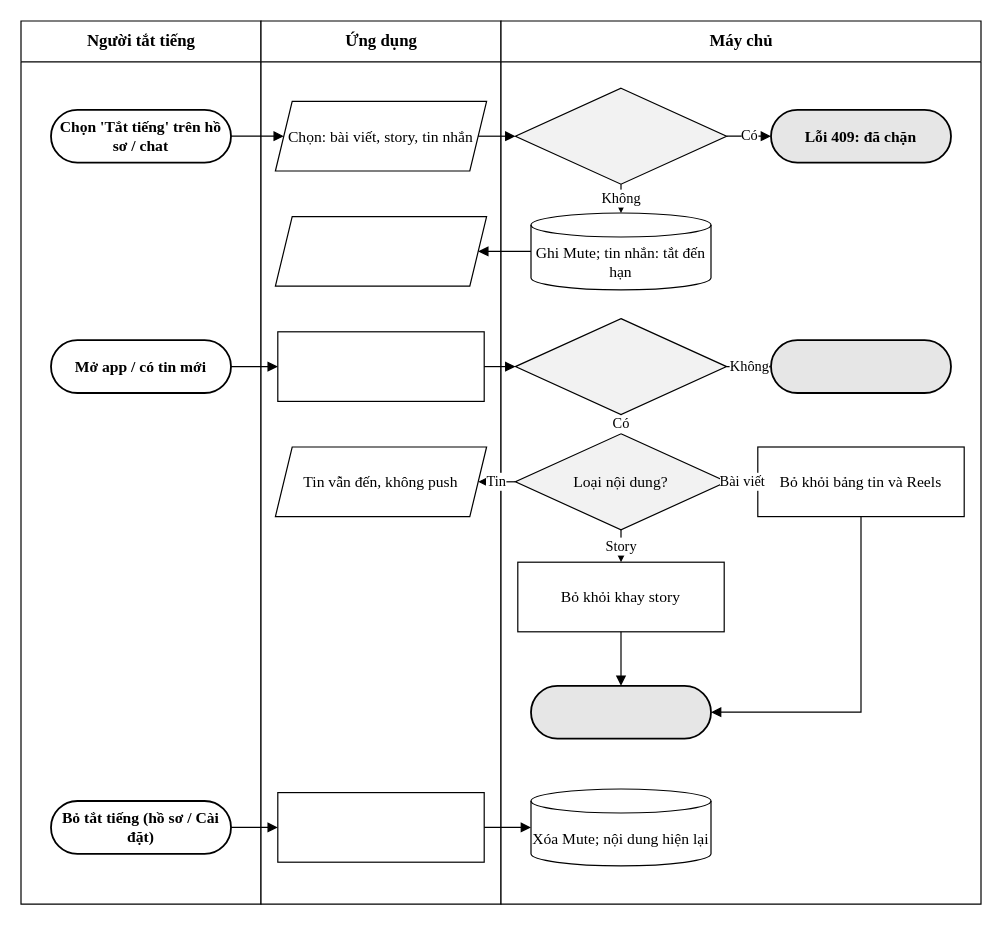
This 1002x925 diagram has some shape labels left out. Each missing label, with the centre of its shape:
"Gửi bỏ tắt tiếng" belongs at (x=380, y=826).
"Người đăng bị tắt tiếng?" belongs at (x=620, y=366).
"Thấy 'Đã tắt tiếng'; B không được báo" belongs at (x=380, y=250).
"Trả bình thường" belongs at (x=860, y=366).
"Tải bảng tin, story, tin nhắn" belongs at (x=380, y=366).
"Vẫn xem được trên trang cá nhân" belongs at (x=620, y=711).
"Đang chặn nhau?" belongs at (x=620, y=135).
